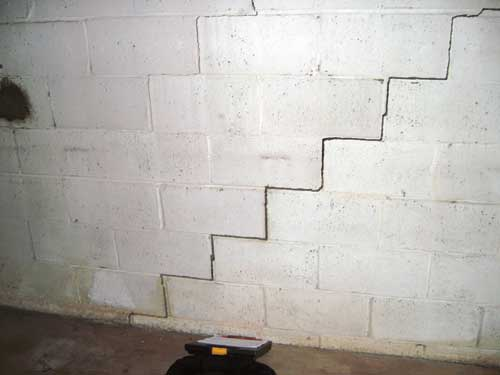stairstep_crack: (127, 5, 499, 320), (144, 0, 257, 130)
